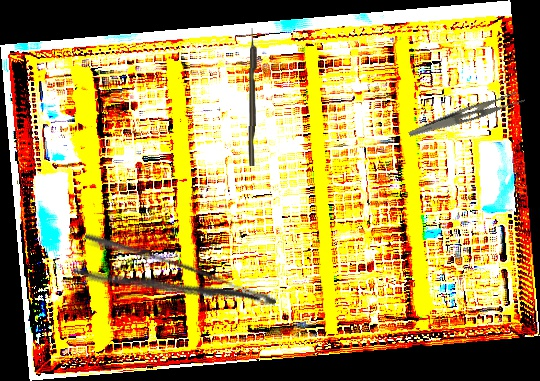Dressing Forceps: (71, 229, 279, 341), (407, 84, 527, 150)
Hook Surgical: (247, 27, 258, 167)
